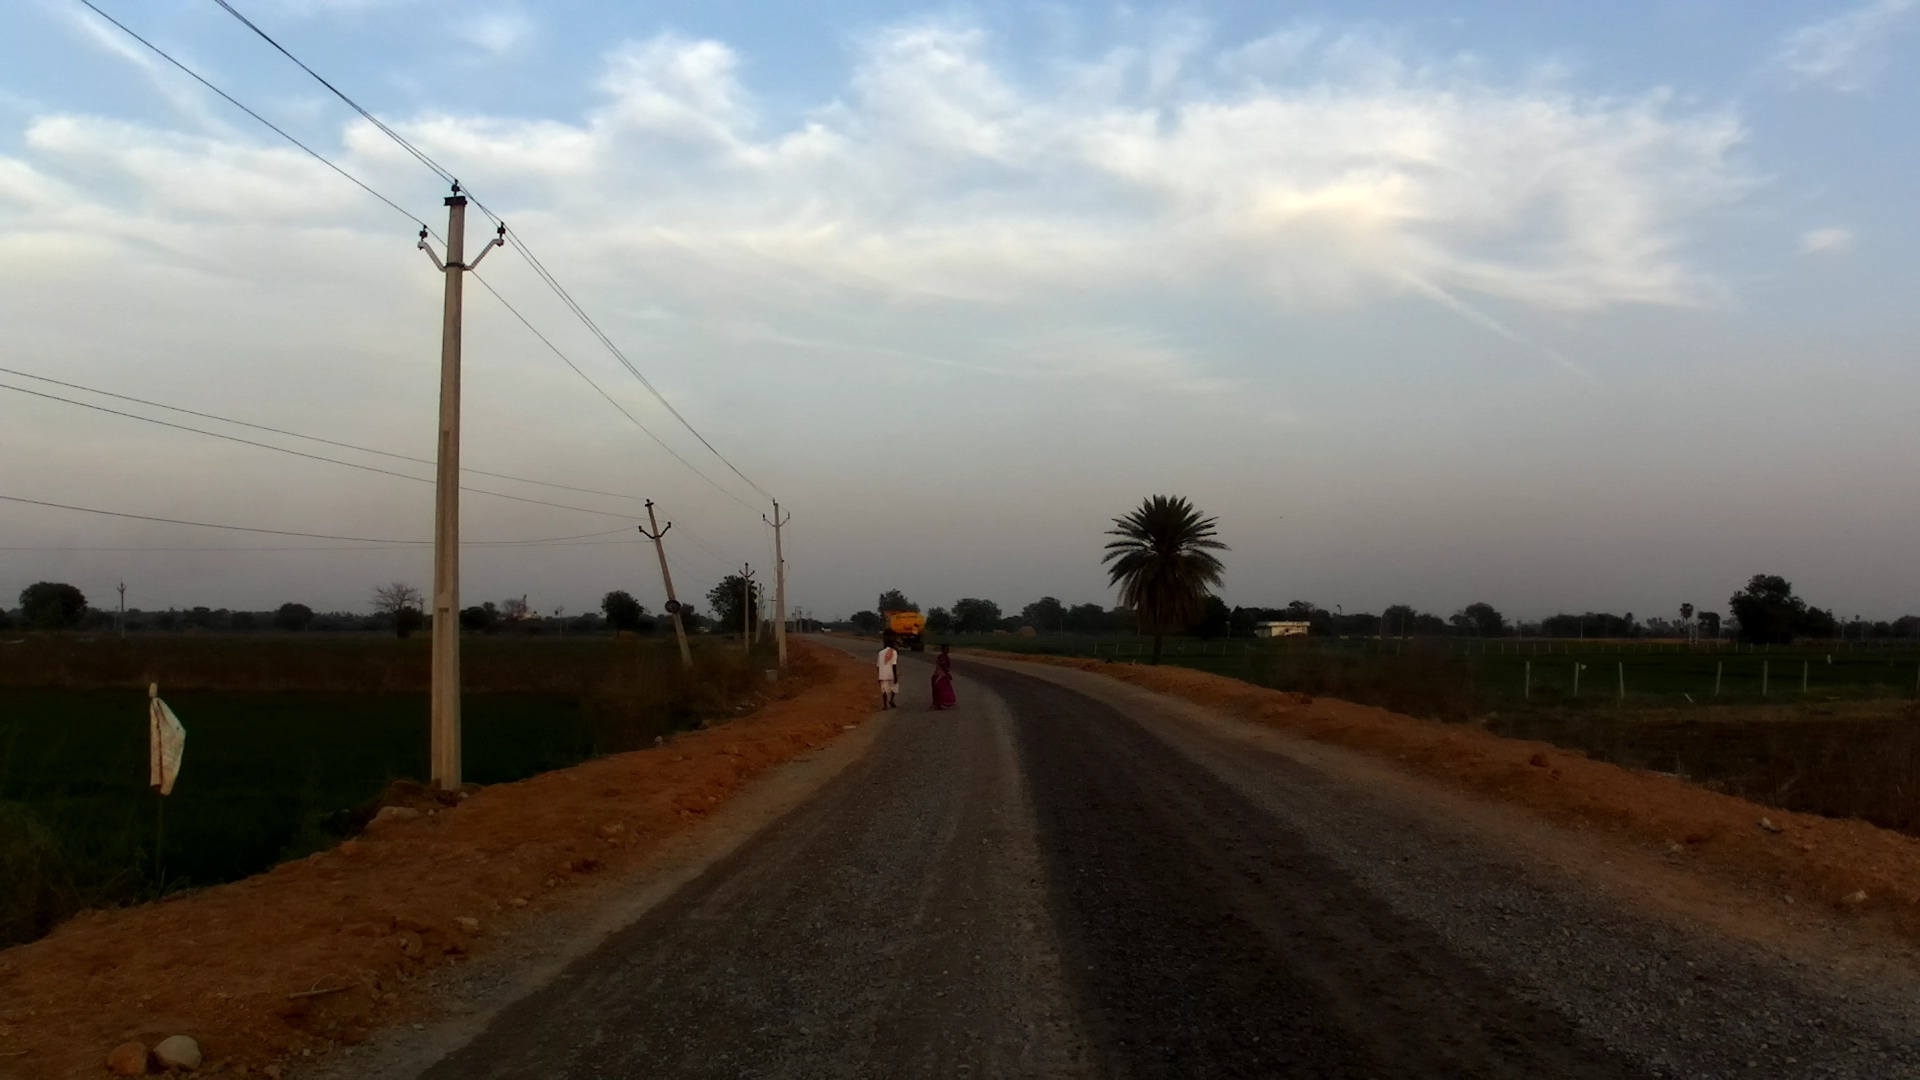person: (927, 642, 958, 712), (875, 641, 904, 712)
truck: (879, 607, 924, 657)
